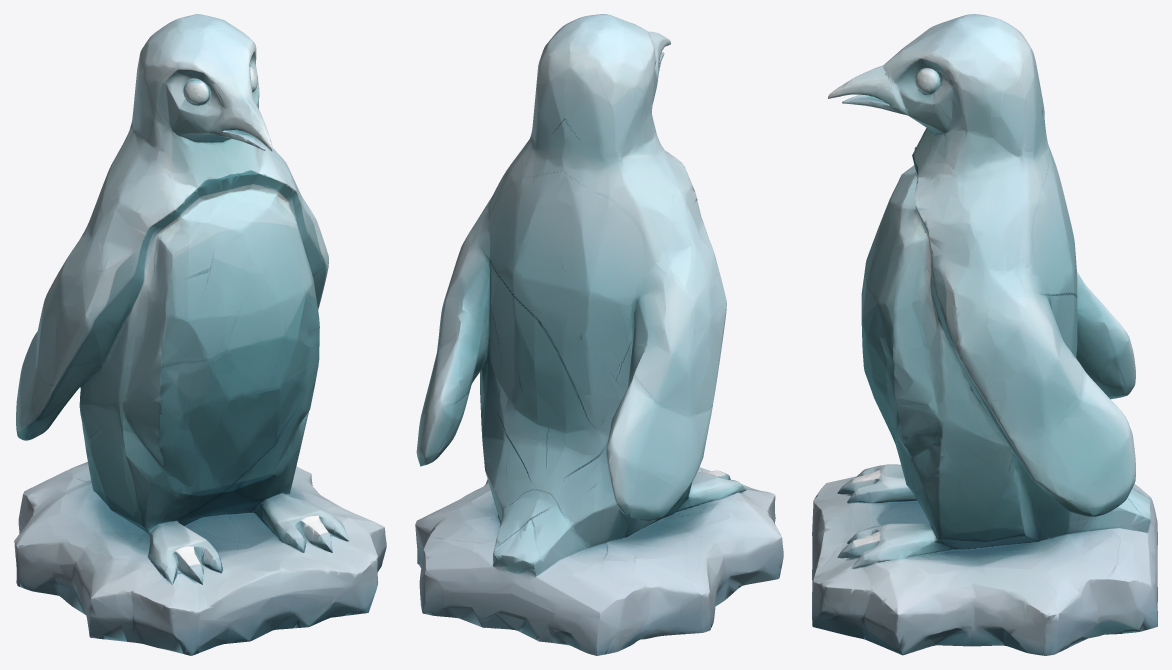
File: penguin-statue.glb
3 views of the same model, side by side, from view 1: azimuth 30°, elevation 25°; view 2: azimuth 150°, elevation 25°; view 3: azimuth 270°, elevation 25° (orthographic). The views are drawn at different scales.
Bounding box in the file's own units: 1.06 × 1.9 × 1.06.
1 material, 1 textured.
